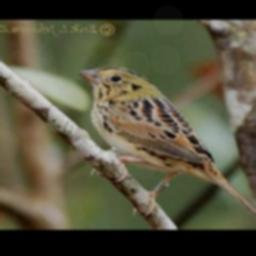Sparrow: (76, 63, 256, 223)
